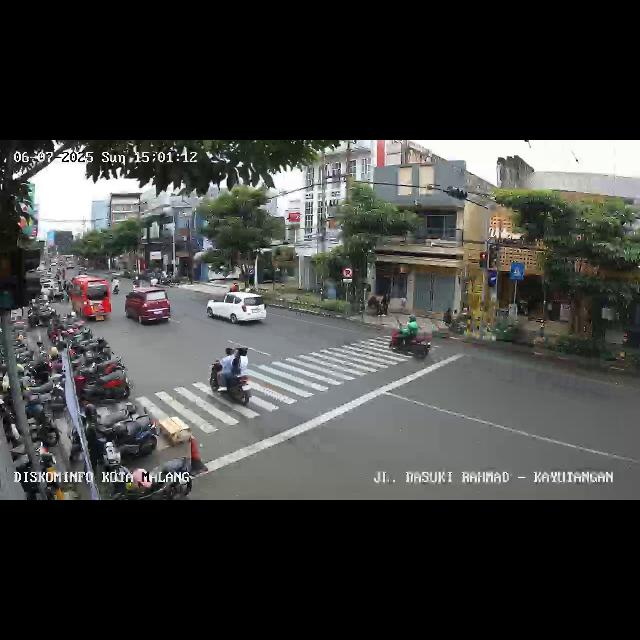car: (207, 292, 267, 328), (70, 276, 112, 322), (124, 288, 172, 328)
motorcycle: (208, 346, 254, 408), (391, 316, 434, 358), (112, 276, 120, 294)
